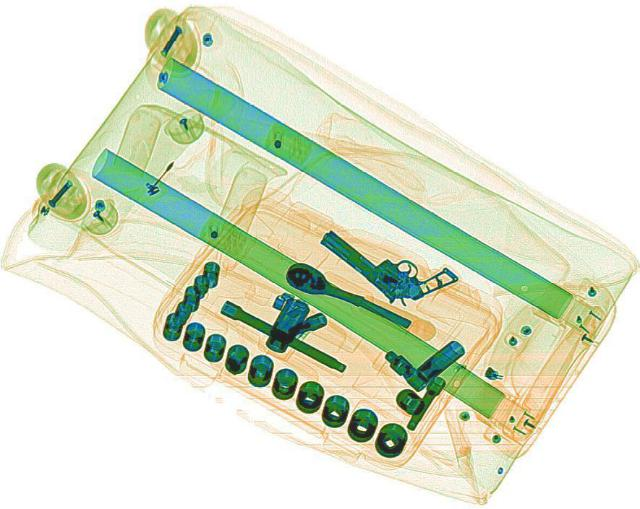Gun: (316, 202, 460, 313)
